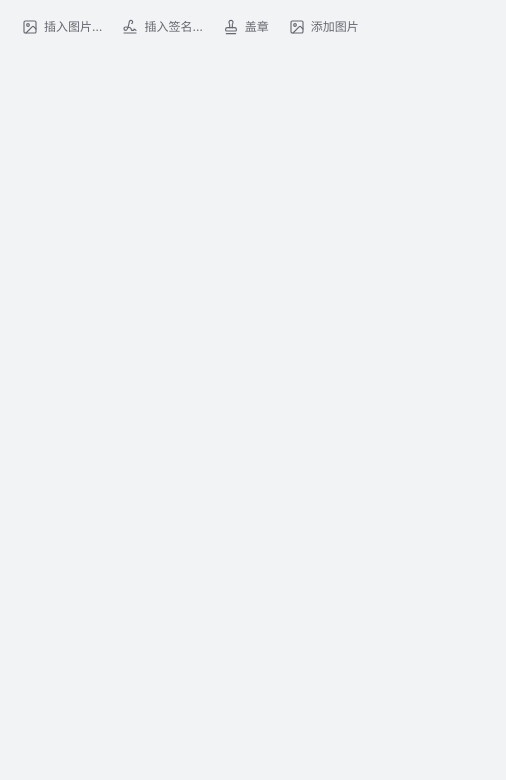
it: PageImageLayer › shows a Chinese error and no overlay when the file is rejected
The width and height of the screenshot is (506, 780).
Click the button "插入图片…" at [62, 27], box x1=12 y1=12 x2=112 y2=42
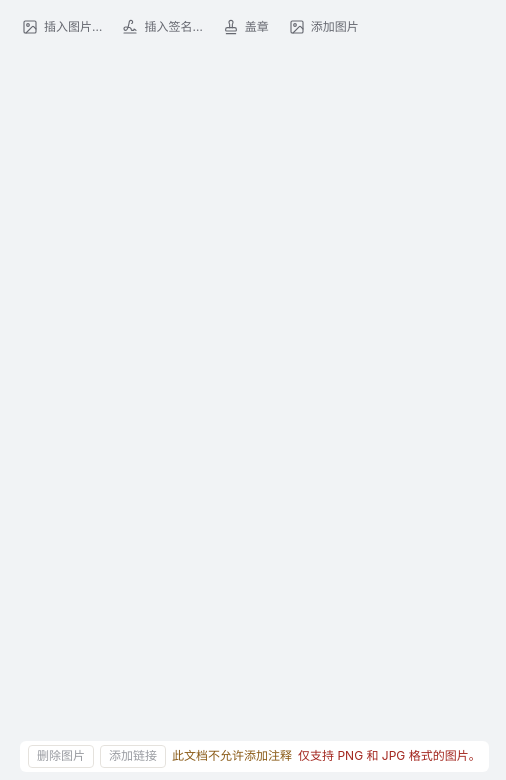
expect the message reads "仅支持 PNG 和 JPG 格式的图片。": met, box x1=298 y1=748 x2=481 y2=763
